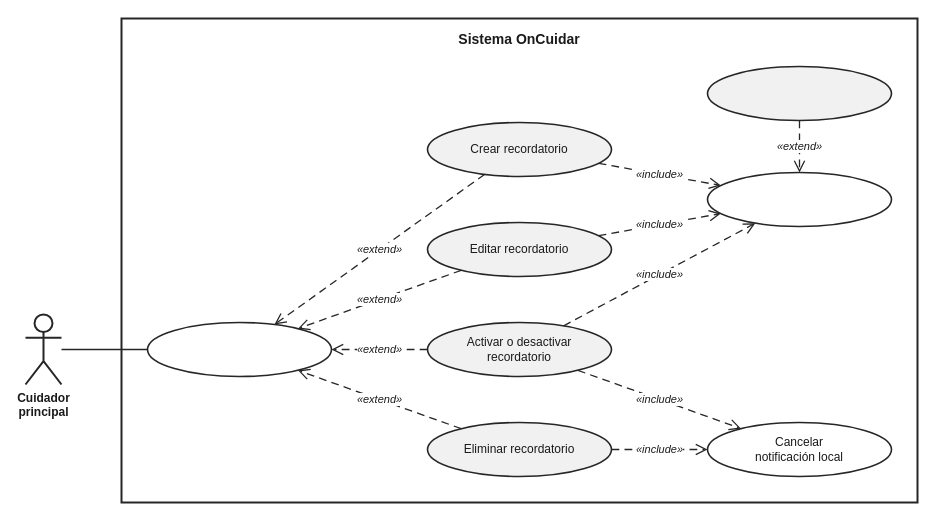
Some shapes in this 936 by 520 pixel diagram are drawn without their labels. The shapes that lost their labels are listed below. From the top down, each one's centre as x and y in pixels, then its label:
point (799, 93): Solicitar permiso de notificaciones
point (799, 199): Programar notificación local
point (239, 349): CU-12 Gestionar recordatorios
